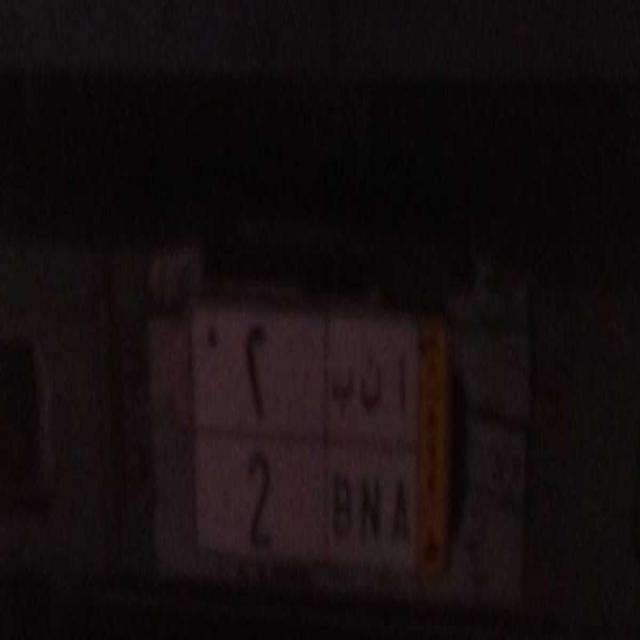license_plate: (198, 432, 415, 574)
